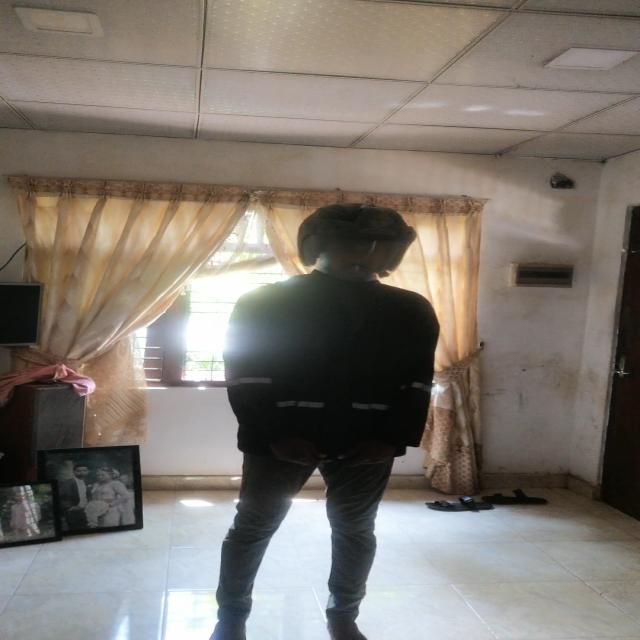Helmet_Wearer: (288, 197, 431, 306)
Jacket_Wearer: (210, 271, 432, 467)
Person: (215, 199, 435, 640)
